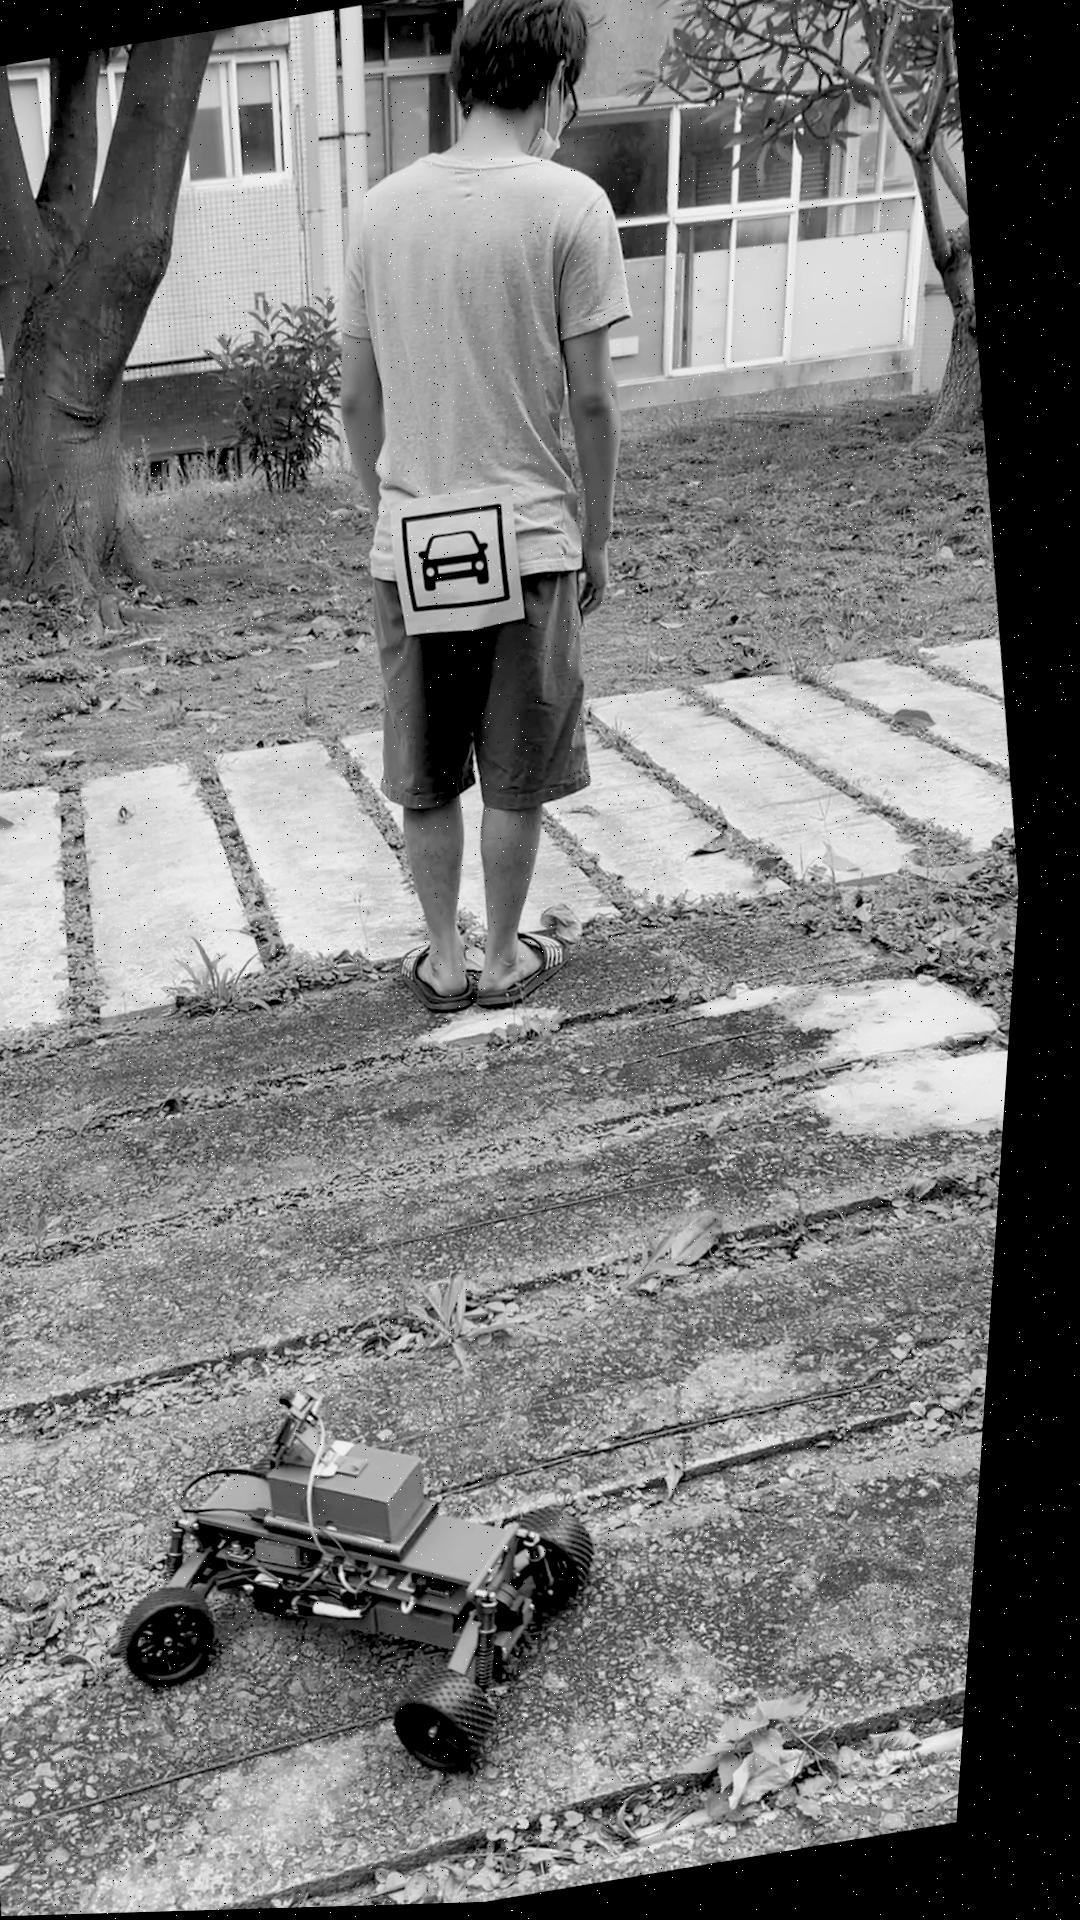car_img: (404, 501, 526, 621)
